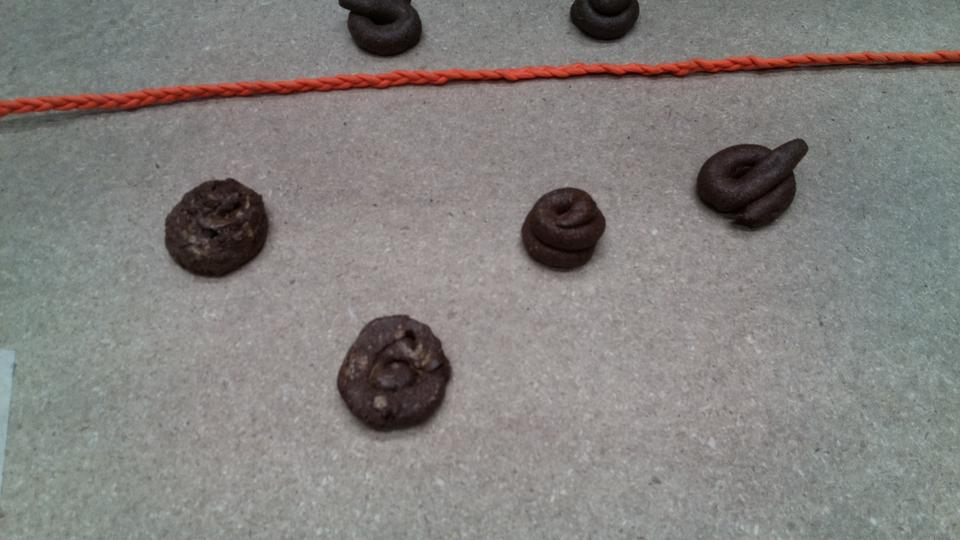poop: (331, 314, 464, 432), (162, 177, 287, 283), (690, 134, 820, 235), (516, 178, 617, 278), (338, 1, 435, 61)
rope: (502, 48, 960, 79), (225, 68, 511, 108), (5, 81, 253, 121)
